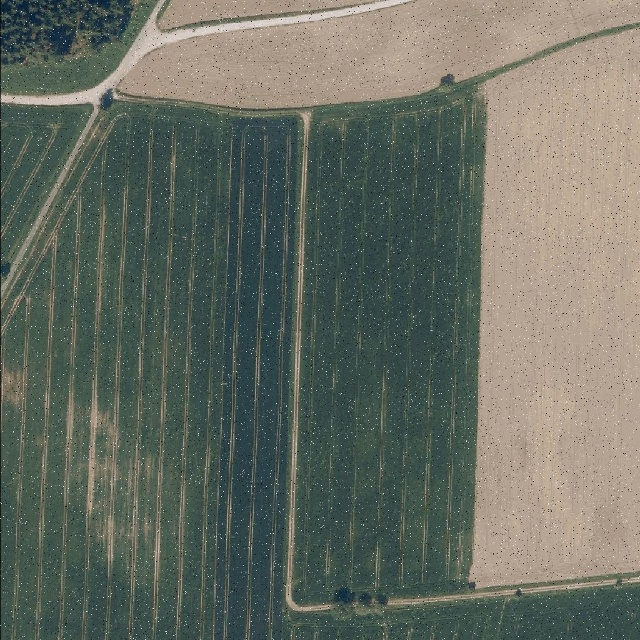vegetation: (1, 1, 132, 70)
